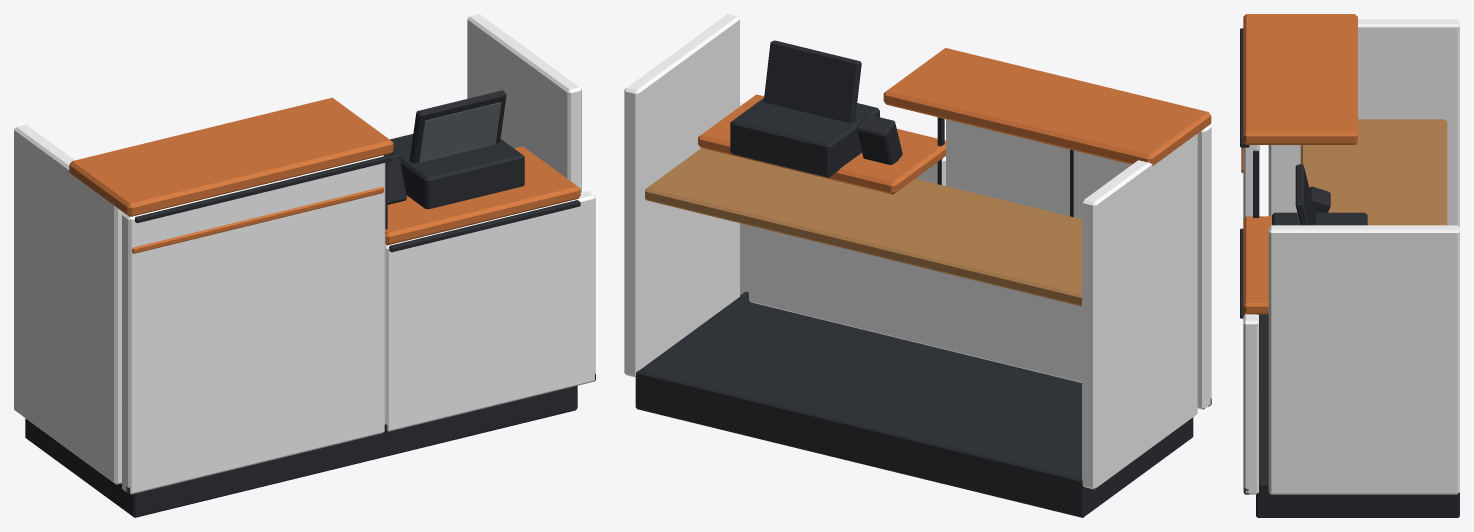
File: counter-till.glb
3 renders of one model, left to right at view 1: azimuth 30°, elevation 25°; view 2: azimuth 150°, elevation 25°; view 3: azimuth 270°, elevation 25°, orthographic. The views are drawn at different scales.
Visible parts, largest first — view 1: counter-till.tint, counter-till.graphite, counter-till.accent, counter-till.glass; view 2: counter-till.tint, counter-till.graphite, counter-till.wood, counter-till.accent; view 3: counter-till.tint, counter-till.accent, counter-till.wood, counter-till.graphite.
Part boxes in pixels (box(x1,y1,x2,y2)): counter-till.tint: box(14, 14, 595, 494); counter-till.graphite: box(25, 90, 595, 517); counter-till.accent: box(69, 97, 580, 253); counter-till.glass: box(419, 102, 500, 162); counter-till.tint: box(624, 14, 1211, 489); counter-till.graphite: box(635, 40, 1211, 517); counter-till.wood: box(645, 148, 1081, 306); counter-till.accent: box(698, 48, 1211, 194); counter-till.tint: box(1243, 19, 1459, 494); counter-till.accent: box(1241, 14, 1357, 314); counter-till.wood: box(1300, 119, 1447, 225); counter-till.graphite: box(1240, 28, 1459, 517).
Size of the model in its own units: 1.6 by 1.05 by 0.7.
